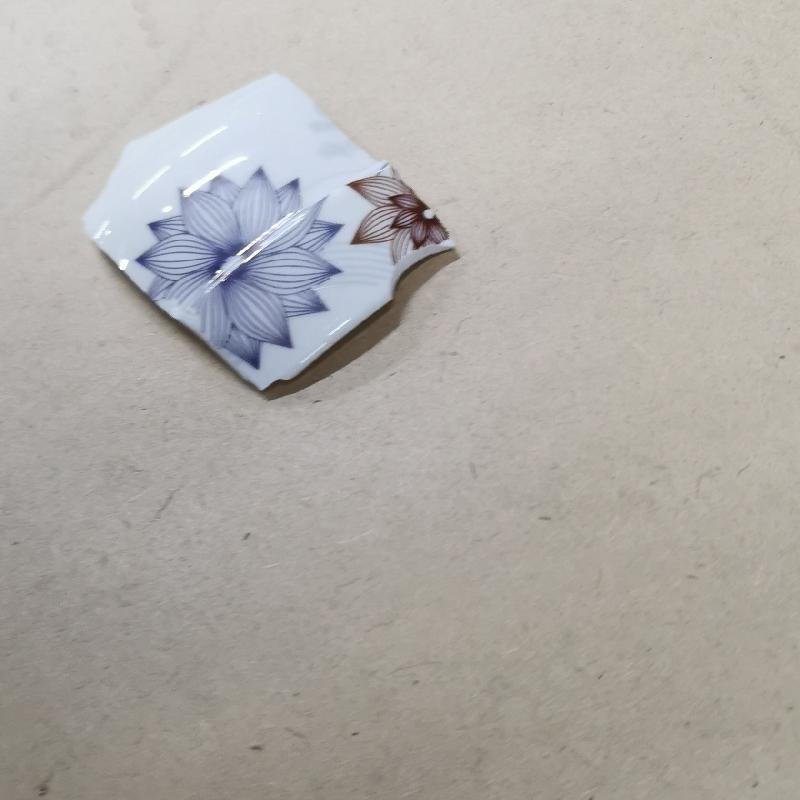ceram: (81, 65, 459, 403)
